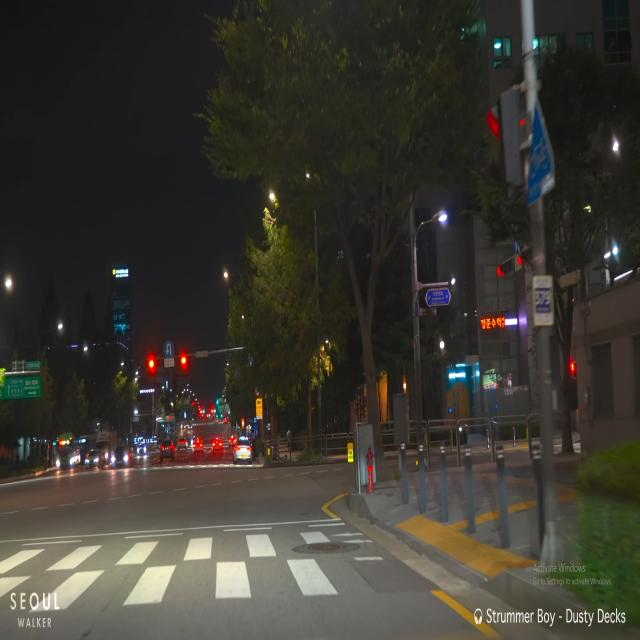headlights: (107, 448, 134, 472), (82, 450, 102, 474), (51, 454, 76, 473)
